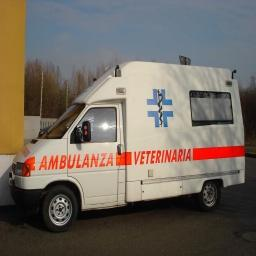Ambulance: (9, 62, 244, 231)
